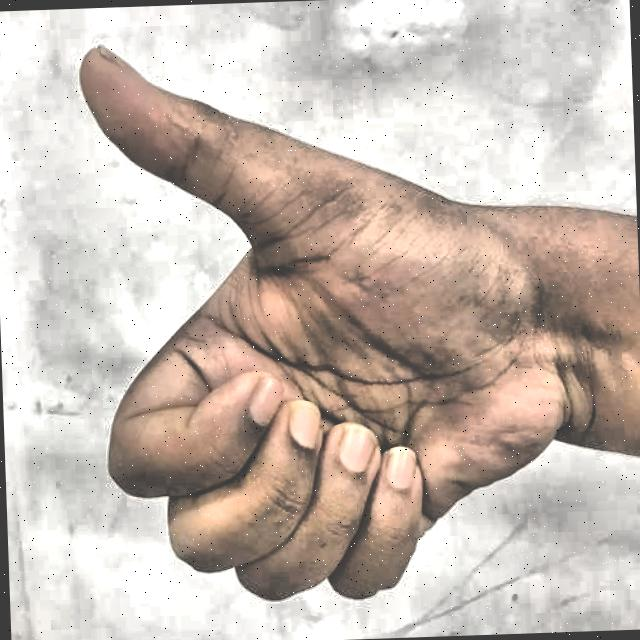Do: (54, 14, 576, 623)
